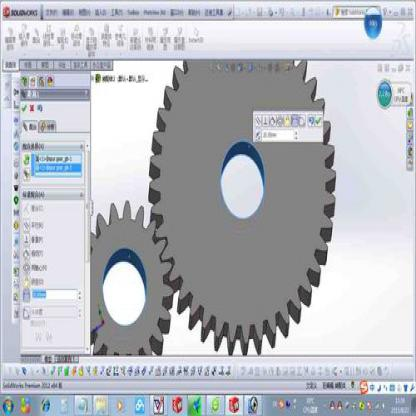FOD: (147, 58, 338, 354), (89, 198, 173, 356)
